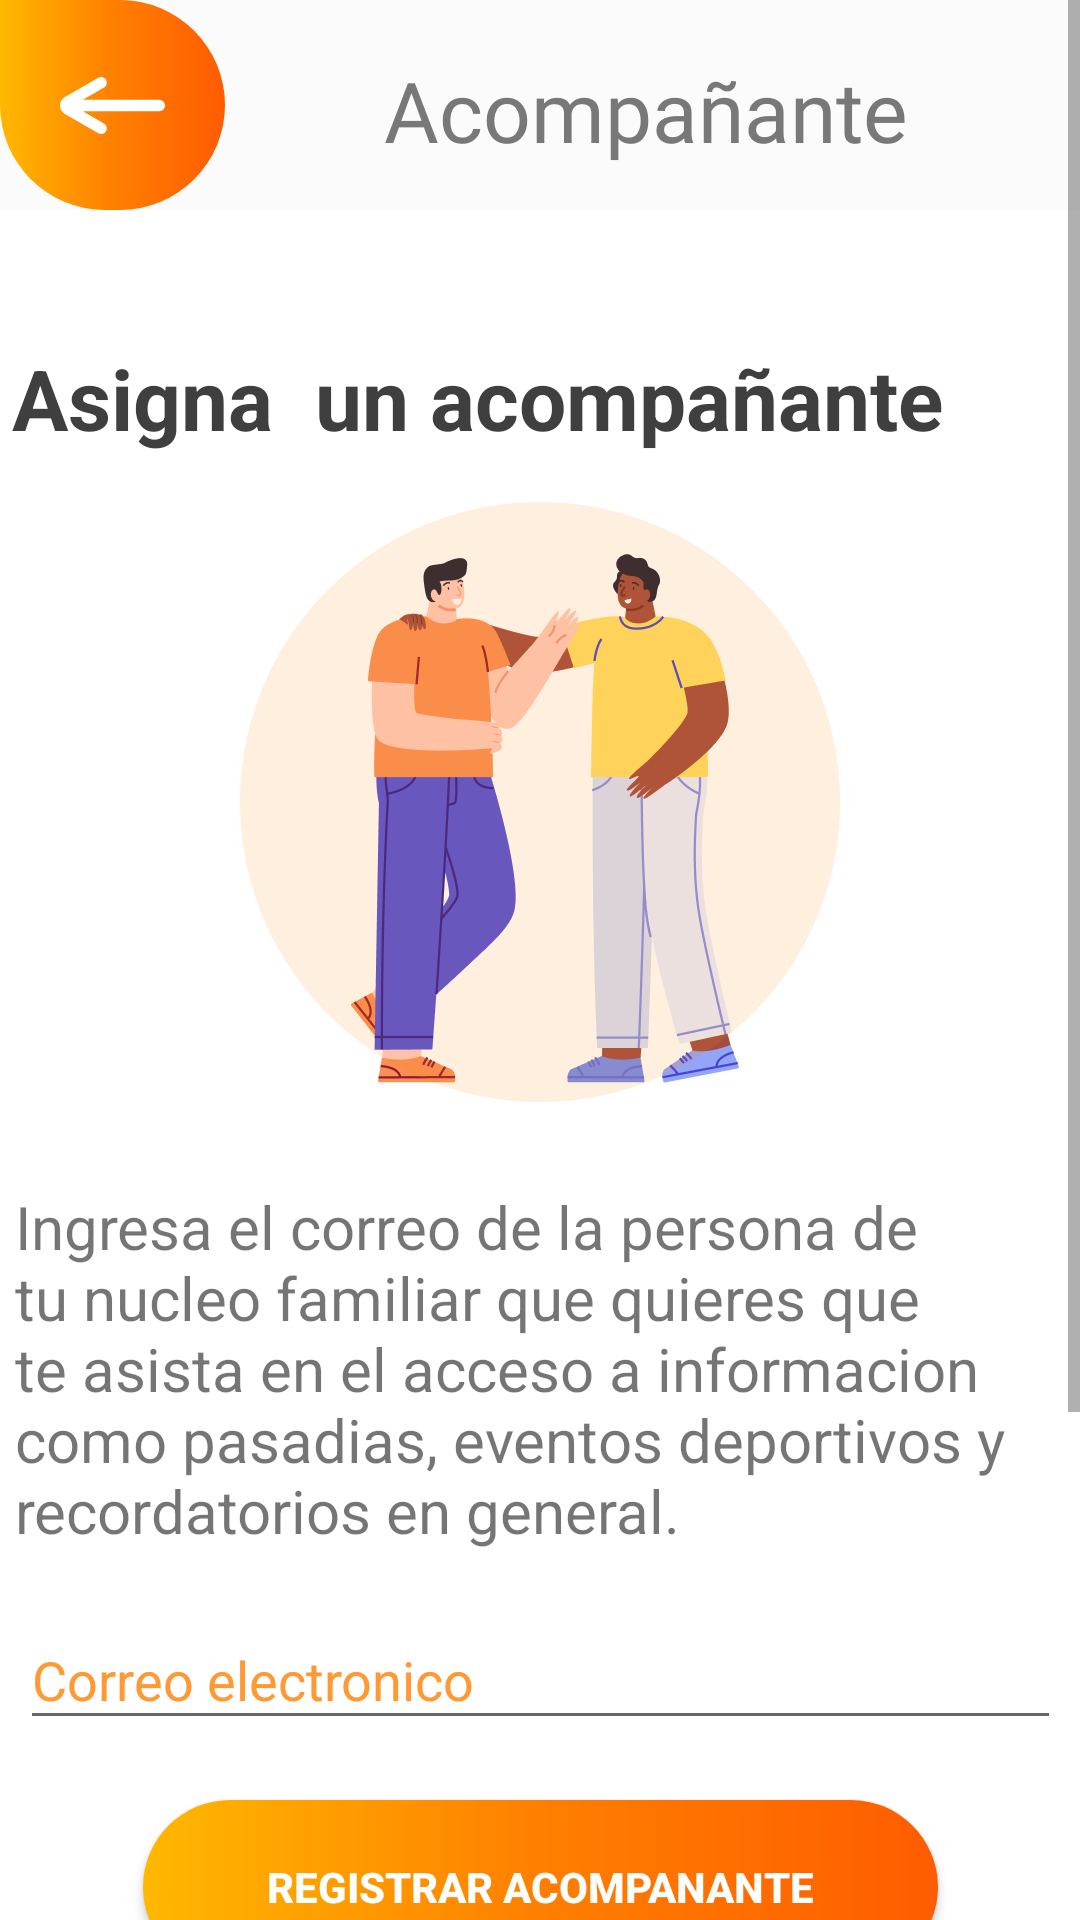

Where icons sit on this 1080px×1920px app screen, as (x1, y1, x2, y2):
backarrow: (0, 0, 225, 210)
